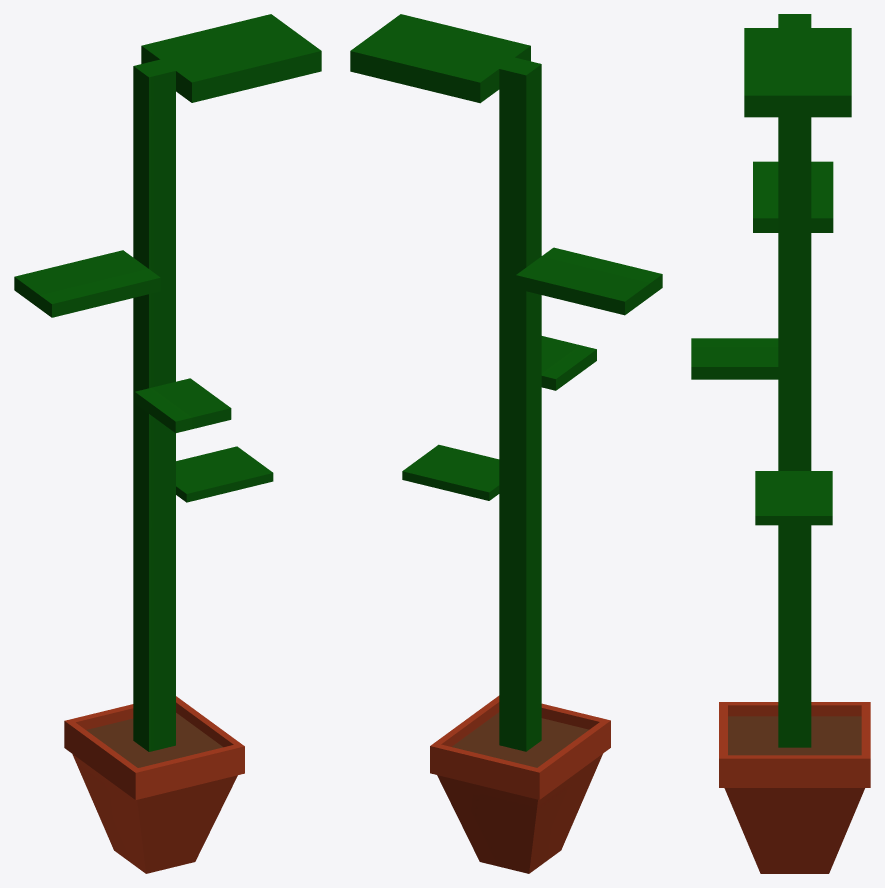
File: PottedPlantTall.fbx
3 views of the same model, side by side, from view 1: azimuth 30°, elevation 25°; view 2: azimuth 150°, elevation 25°; view 3: azimuth 270°, elevation 25° (orthographic). The views are drawn at different scales.
Visible parts, largest first — view 1: Cube.002, Cube, Cube.001; view 2: Cube.002, Cube, Cube.001; view 3: Cube.002, Cube, Cube.001.
Boxes of the visible parts, x1,y1,x2,y2 form: Cube.002: [14, 14, 321, 751]; Cube: [64, 696, 244, 873]; Cube.001: [86, 713, 222, 767]; Cube.002: [350, 14, 662, 751]; Cube: [430, 695, 610, 873]; Cube.001: [452, 712, 588, 767]; Cube.002: [691, 14, 851, 747]; Cube: [719, 702, 870, 873]; Cube.001: [728, 716, 861, 755].
Size of the model in its own units: 302 by 857 by 166.
